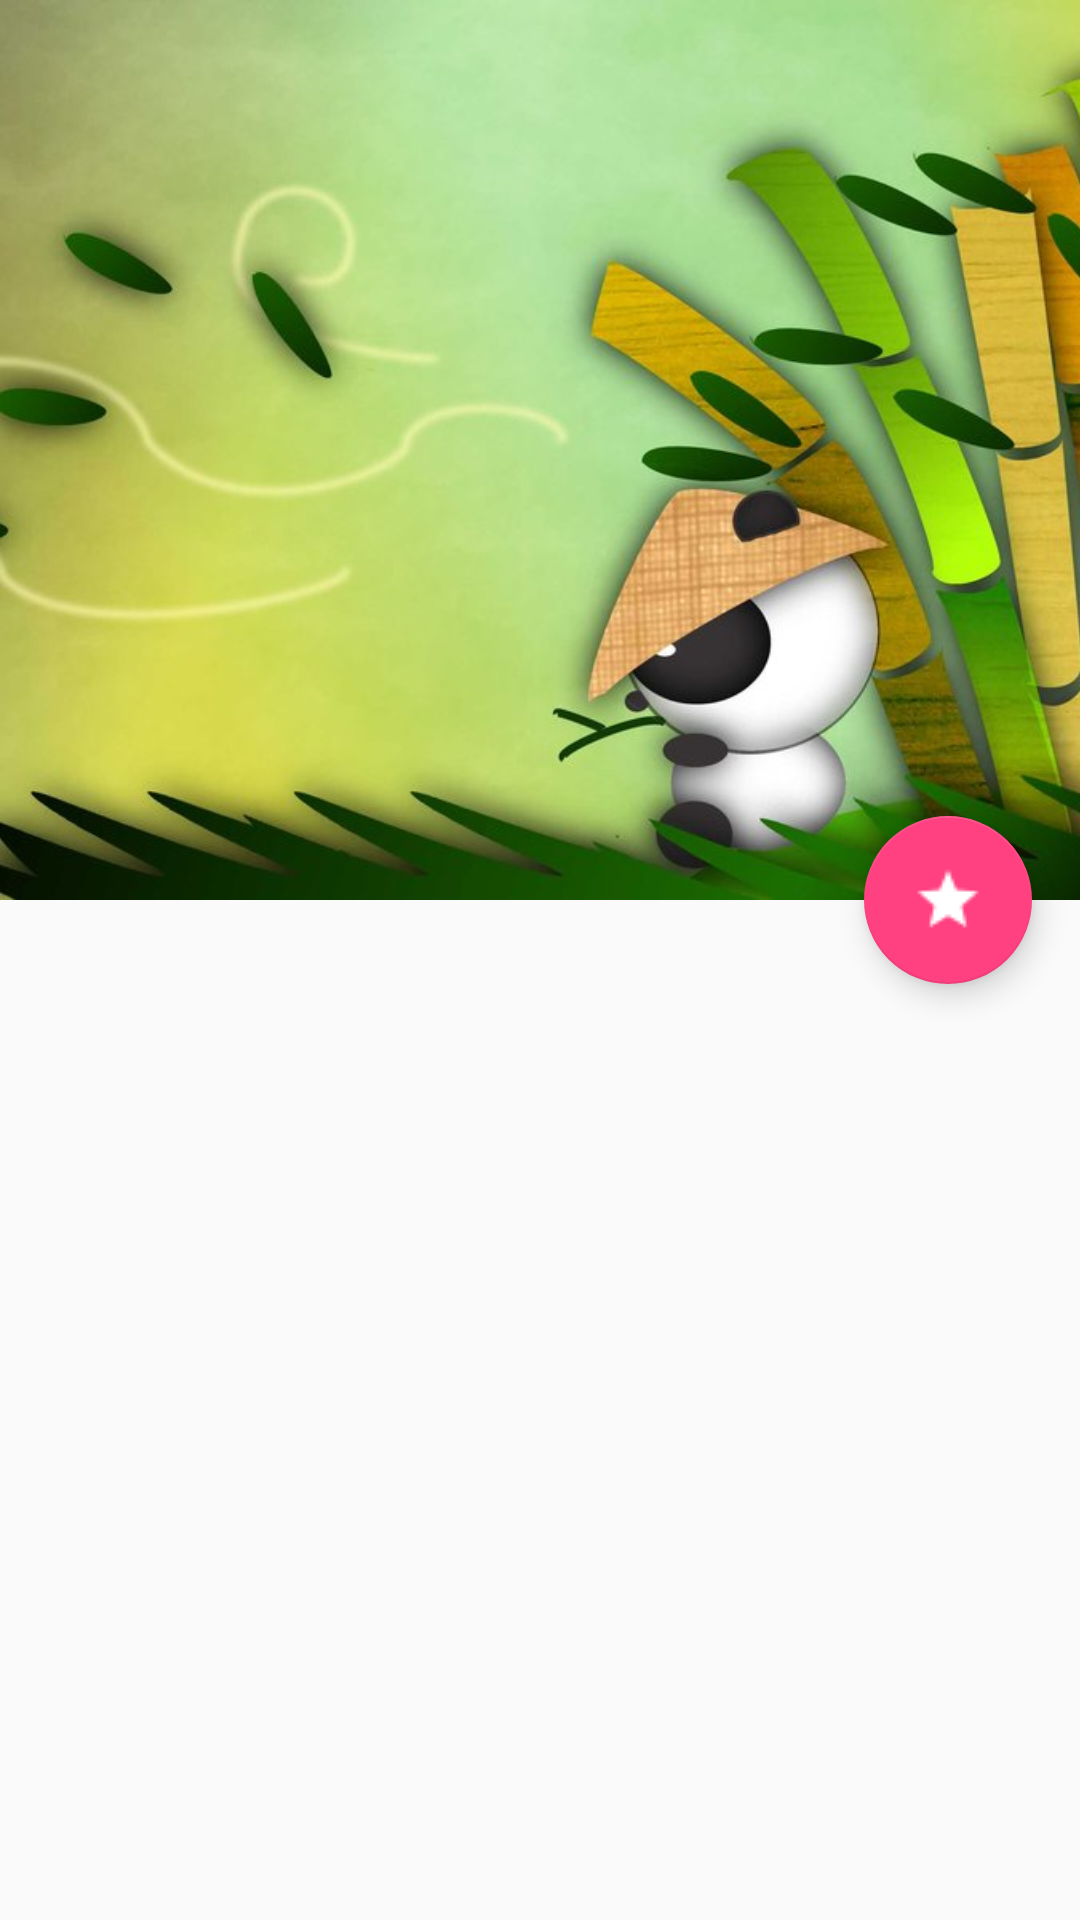

Icons on this 1080×1920 Android screen, each with the point to tap as point (x, y):
star: point (948, 900)
